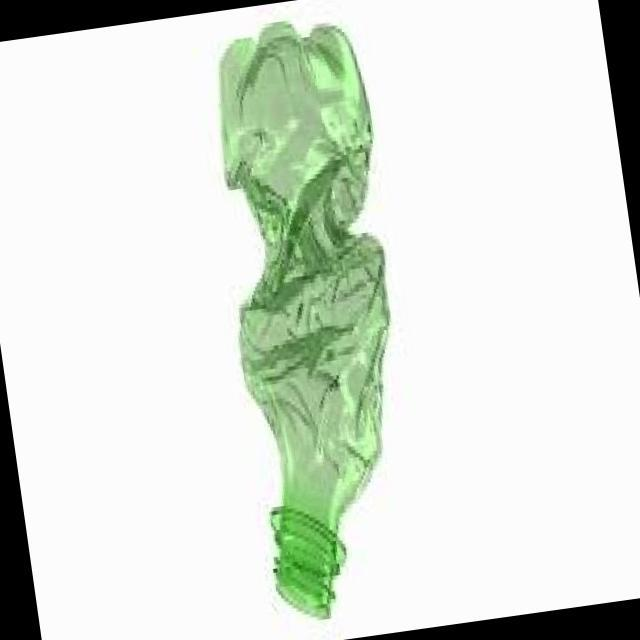defected: (188, 12, 450, 637)
